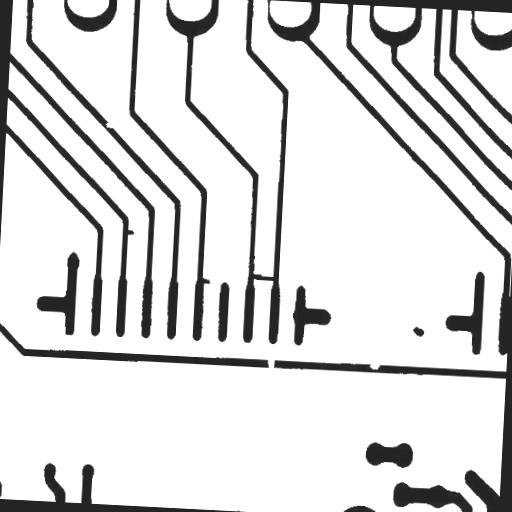copper: (404, 318, 432, 344)
mousebite: (361, 356, 388, 378), (97, 114, 121, 136)
open: (259, 344, 284, 380)
short: (242, 266, 282, 289)
spur: (190, 270, 218, 292), (118, 222, 142, 243)
